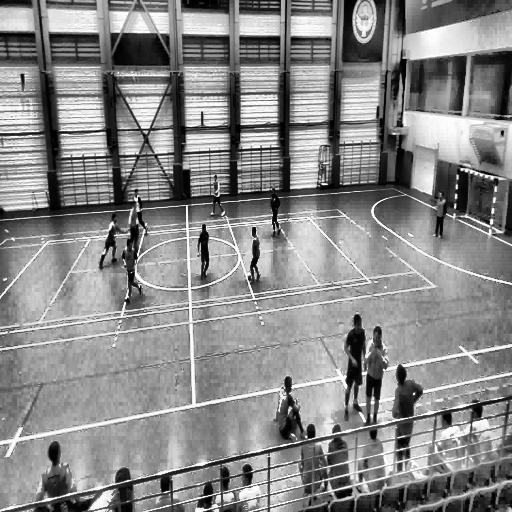ball: (246, 271, 252, 282)
player: (393, 365, 423, 465), (364, 324, 387, 428), (344, 312, 366, 419), (299, 424, 327, 507), (275, 374, 302, 446), (123, 238, 143, 302), (99, 212, 120, 267), (247, 226, 260, 284), (134, 188, 149, 237), (197, 224, 210, 280), (432, 190, 446, 240), (129, 200, 140, 254), (210, 175, 224, 217), (270, 188, 280, 236)
